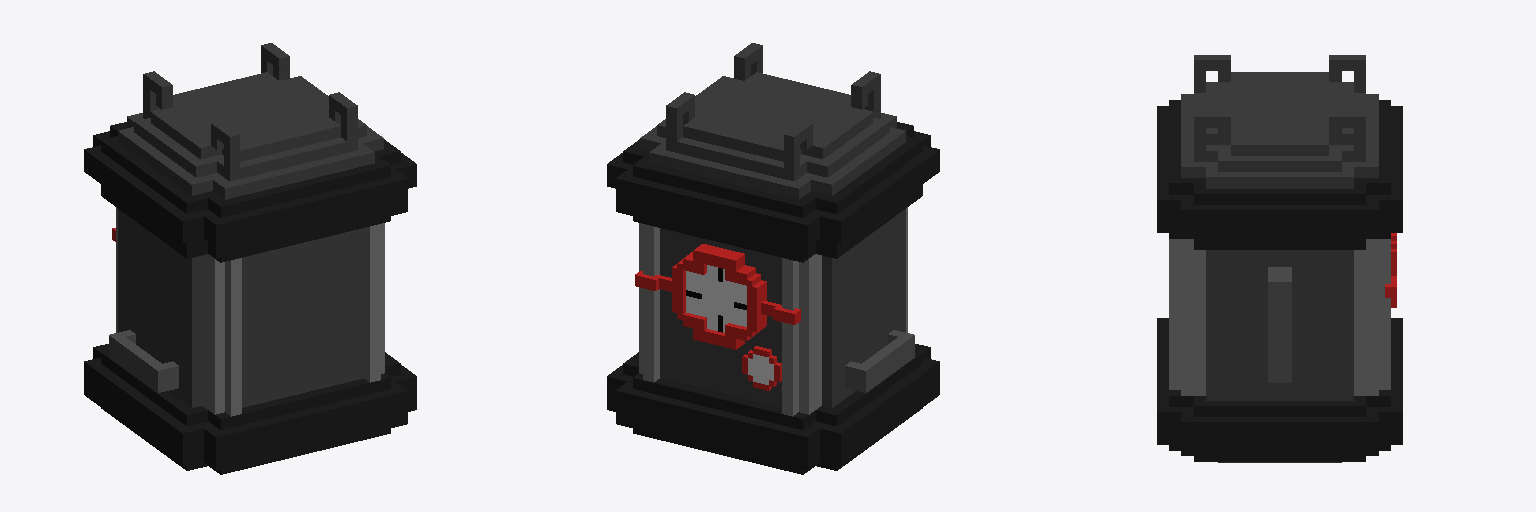
3 renders of one model, left to right at view 1: azimuth 30°, elevation 25°; view 2: azimuth 150°, elevation 25°; view 3: azimuth 270°, elevation 25°, orthographic.
Parts seen in each view (by area): view 1: object 1; view 2: object 1; view 3: object 1.
Part boxes in pixels (left/top/right/bottom): object 1: left=84, top=43, right=416, bottom=474; object 1: left=607, top=43, right=939, bottom=474; object 1: left=1157, top=55, right=1402, bottom=462.
Size of the model in its own units: 4.6 by 6 by 4.
1 materials, 1 textured.